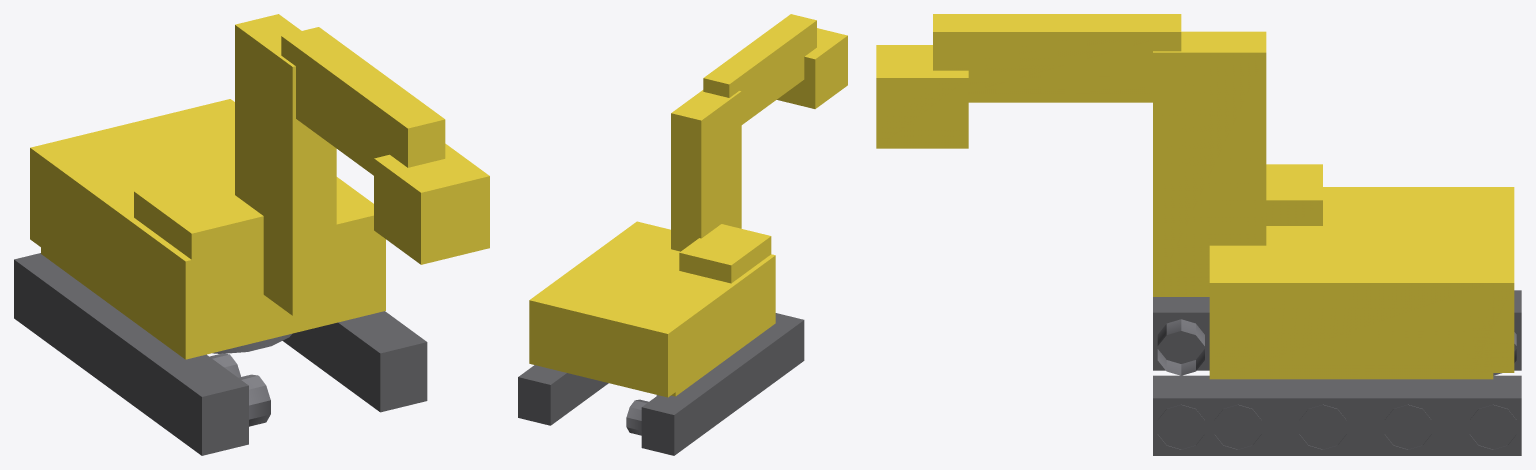
Rendered from hydraulic_excavator.glb.
The picture shows the model from 3 angles, left to right: view 1: azimuth 30°, elevation 25°; view 2: azimuth 150°, elevation 25°; view 3: azimuth 270°, elevation 25°; orthographic projection. The views are drawn at different scales.
Visible parts, largest first — view 1: ExcavatorDeck, CrawlerTrackL, CrawlerTrackR, RollerL_2.2, TurntableRing; view 2: ExcavatorDeck, CrawlerTrackL, CrawlerTrackR, RollerL_-2.2; view 3: ExcavatorDeck, CrawlerTrackR, CrawlerTrackL, RollerL_2.2.
Part boxes in pixels (<box>): ExcavatorDeck: <box>30,14,489,359</box>; CrawlerTrackL: <box>14,253,248,455</box>; CrawlerTrackR: <box>282,311,427,412</box>; RollerL_2.2: <box>238,374,270,426</box>; TurntableRing: <box>212,334,291,353</box>; ExcavatorDeck: <box>529,14,847,397</box>; CrawlerTrackL: <box>641,313,804,455</box>; CrawlerTrackR: <box>518,365,608,425</box>; RollerL_-2.2: <box>626,399,648,435</box>; ExcavatorDeck: <box>876,14,1514,379</box>; CrawlerTrackR: <box>1153,375,1521,455</box>; CrawlerTrackL: <box>1153,290,1521,370</box>; RollerL_2.2: <box>1157,319,1204,375</box>.
Bounding box in the file's own units: 3.61 × 5.9 × 9.1.
